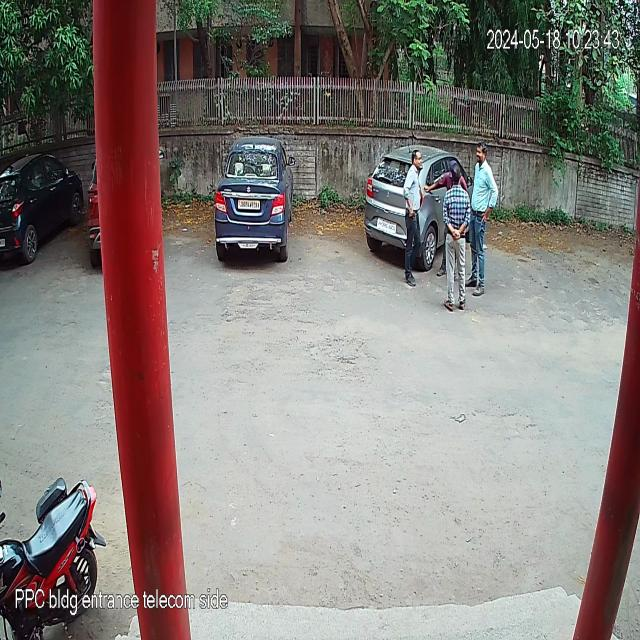NO-Boots: (403, 272, 418, 291), (472, 280, 487, 299), (462, 272, 477, 290), (443, 296, 456, 316), (402, 269, 416, 285), (457, 294, 466, 315), (438, 261, 447, 276)
NO-Hardhat: (410, 145, 426, 173), (451, 159, 462, 189), (475, 140, 488, 165), (446, 156, 457, 182)
Person: (421, 166, 473, 312), (466, 144, 499, 297)
